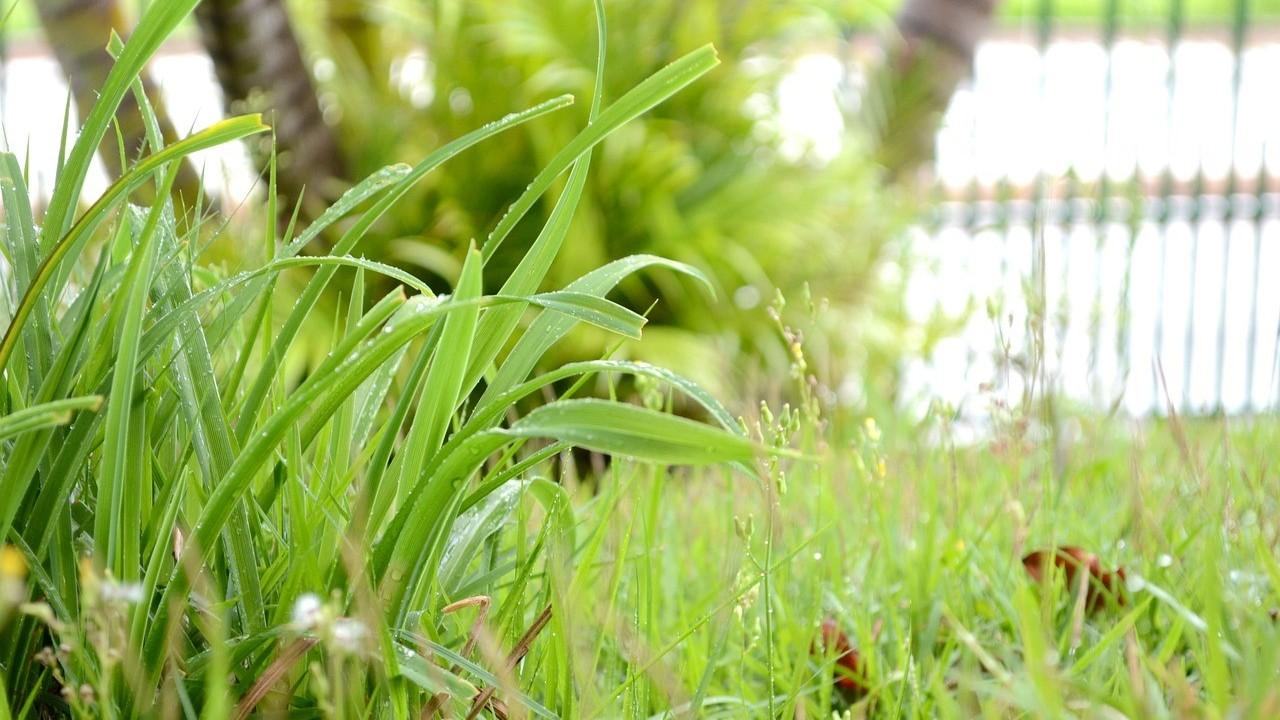grass: (1, 154, 814, 720)
